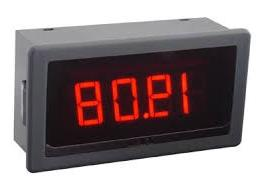.: (142, 112, 149, 120)
0: (112, 76, 140, 123)
1: (180, 72, 190, 115)
8: (74, 80, 104, 127)
9: (148, 75, 172, 119)
